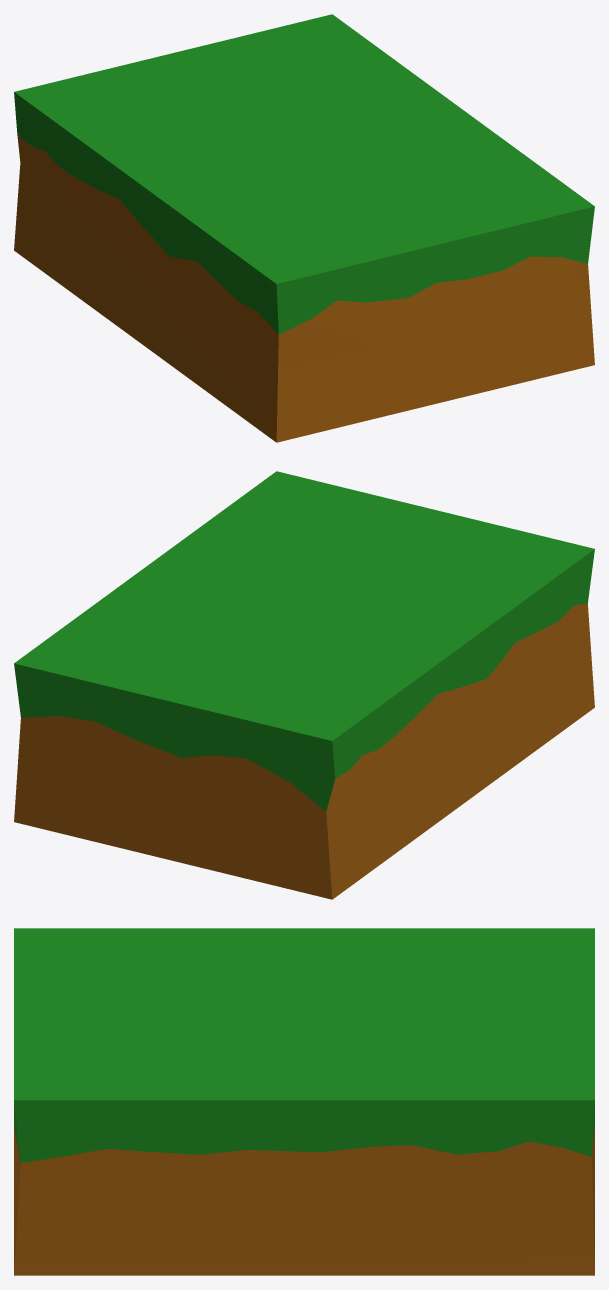
The model's file is PlatformMapa2.fbx.
3 views of the same model, one above another, from view 1: azimuth 30°, elevation 25°; view 2: azimuth 150°, elevation 25°; view 3: azimuth 270°, elevation 25° (orthographic). The views are drawn at different scales.
Parts seen in each view (by area): view 1: Cube; view 2: Cube; view 3: Cube.
Boxes of the visible parts, <box> form: Cube: <box>14,14,594,442</box>; Cube: <box>14,471,594,899</box>; Cube: <box>14,928,594,1275</box>.
Size of the model in its own units: 2100 by 1000 by 3000.
